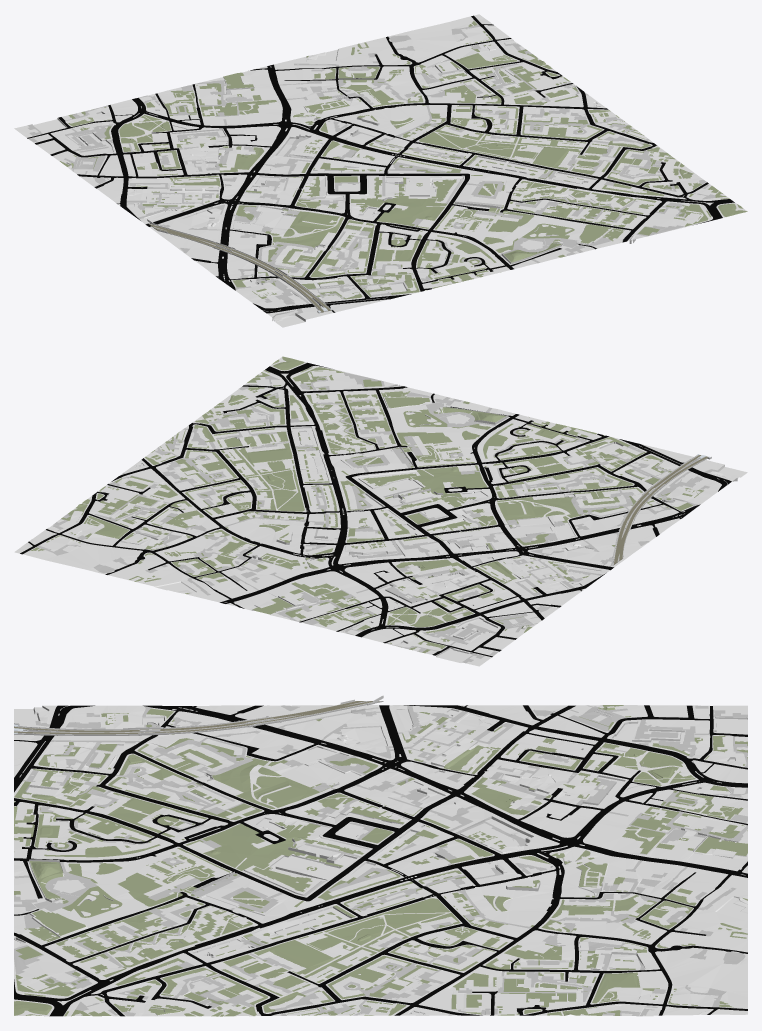
The model's file is TQ3279_Terrain_LOD_1_draco.glb.
3 views of the same model, one above another, from view 1: azimuth 30°, elevation 25°; view 2: azimuth 150°, elevation 25°; view 3: azimuth 270°, elevation 25° (orthographic). The views are drawn at different scales.
Parts seen in each view (by area): view 1: TQ3279_Terrain; view 2: TQ3279_Terrain; view 3: TQ3279_Terrain.
Part boxes in pixels (<box>): TQ3279_Terrain: <box>14,14,747,327</box>; TQ3279_Terrain: <box>14,356,747,666</box>; TQ3279_Terrain: <box>14,695,747,1016</box>.
Size of the model in its own units: 1000 by 23.38 by 1000.
Materials: 1 (1 with a texture image).
